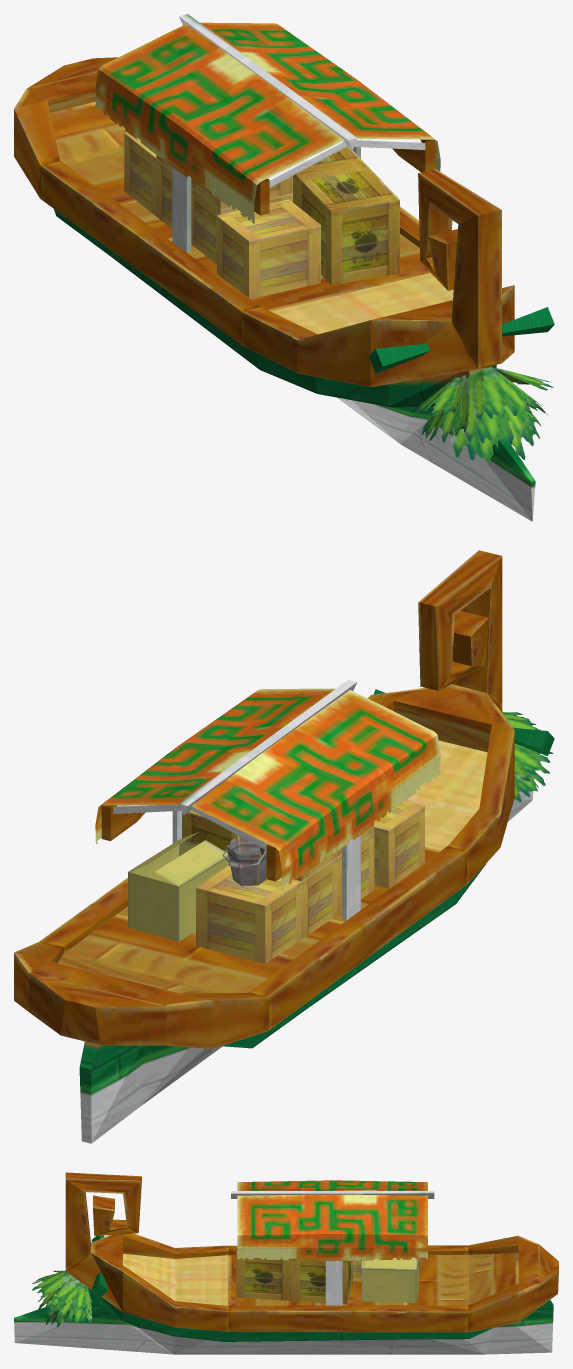
Rendered from shipdolpic.dae.
The picture shows the model from 3 angles, top to bottom: view 1: azimuth 30°, elevation 25°; view 2: azimuth 150°, elevation 25°; view 3: azimuth 270°, elevation 25°; orthographic projection. The views are drawn at different scales.
Parts seen in each view (by area): view 1: m0, m1; view 2: m0, m1; view 3: m0, m1.
Part boxes in pixels (x1,y1,x2,y2): m0: (14, 14, 554, 521); m1: (95, 22, 553, 462); m0: (14, 550, 534, 1143); m1: (95, 688, 554, 889); m0: (14, 1172, 558, 1354); m1: (32, 1180, 427, 1327).
Size of the model in its own units: 500 by 620 by 1715.
2 materials, 2 textured.
